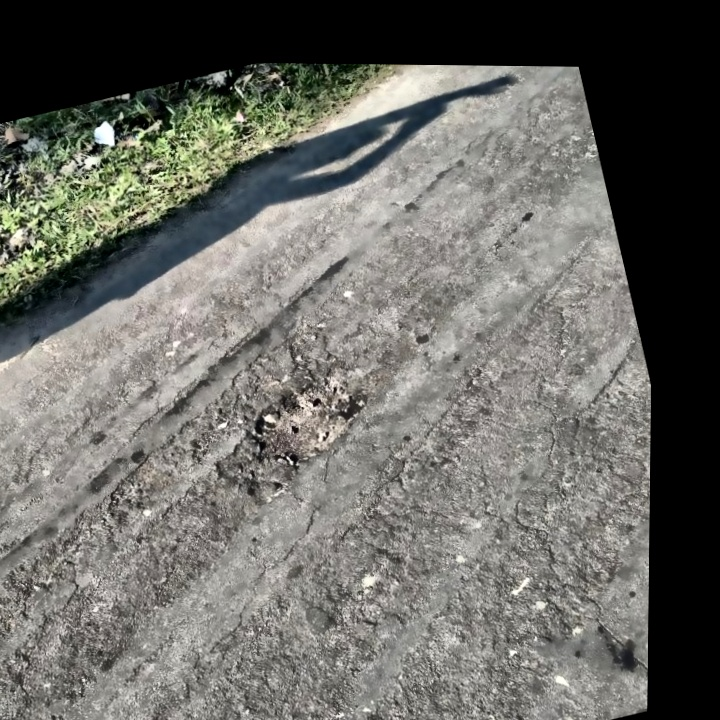pothole: (240, 371, 367, 477)
